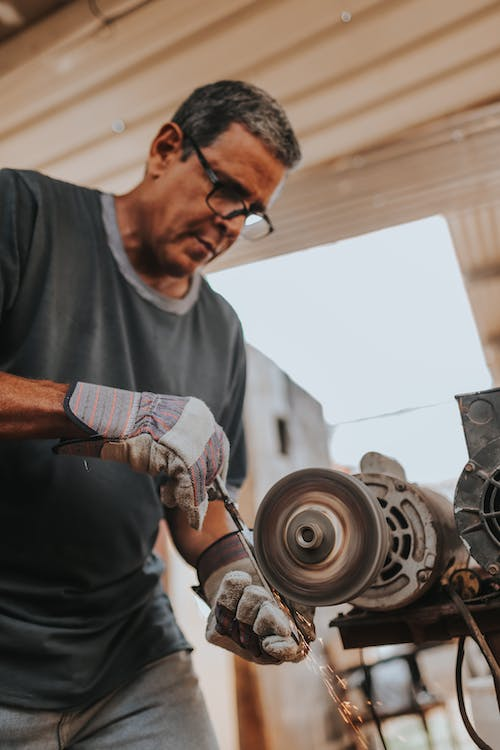knife: (211, 469, 306, 653)
